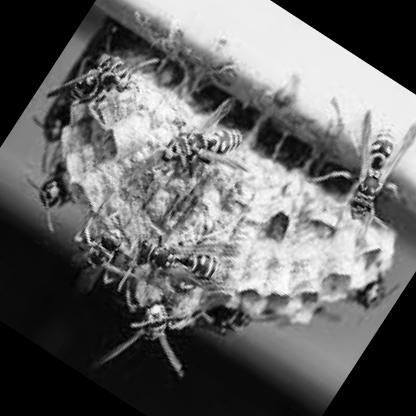other: (272, 88, 415, 266), (126, 82, 262, 219)
